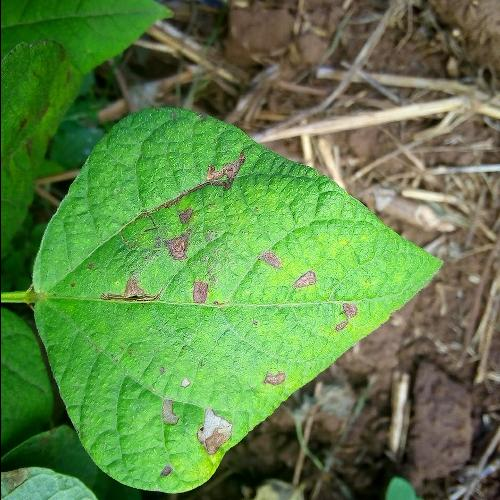hawar: (92, 216, 362, 338), (145, 363, 232, 471), (141, 138, 263, 193), (245, 353, 297, 409)
